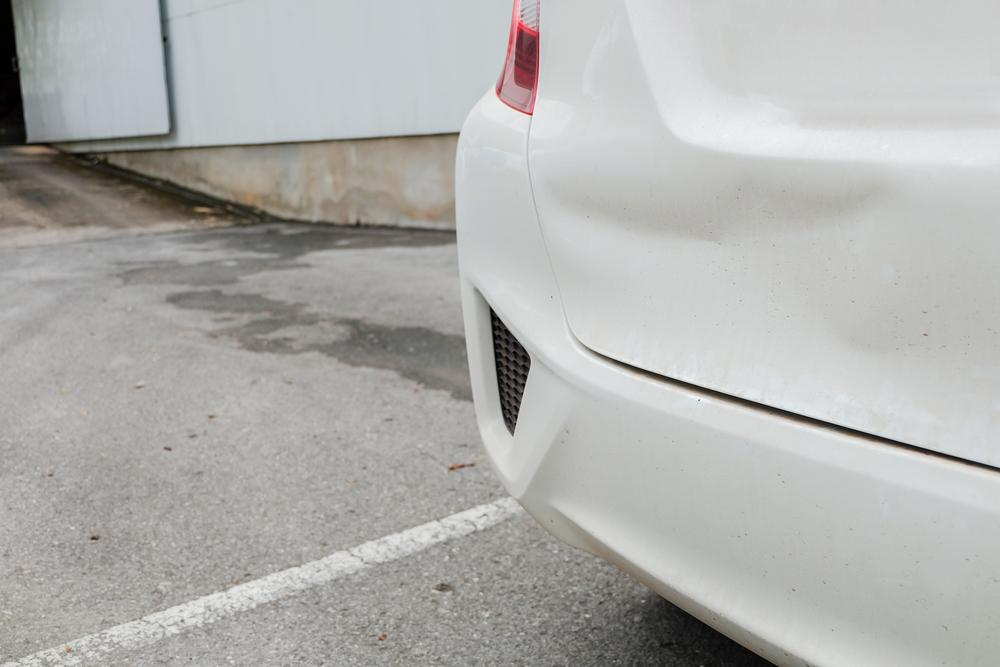dent: (542, 159, 935, 405)
